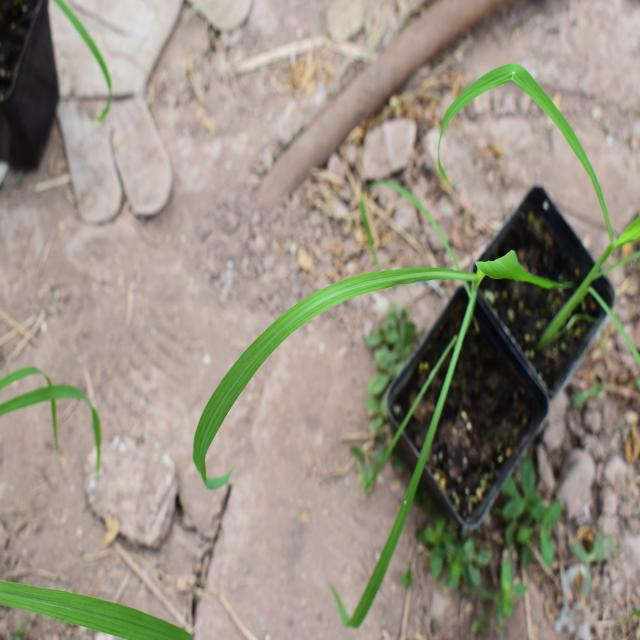barnyard_grass: (187, 188, 460, 555)
